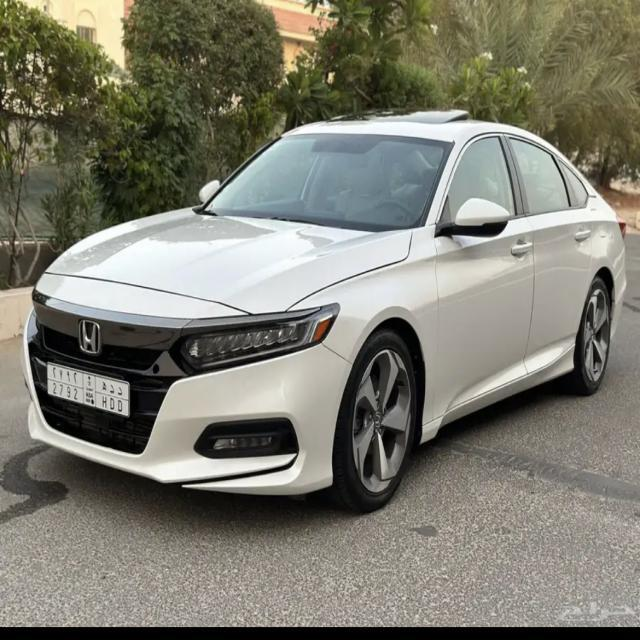license_plate: (45, 359, 132, 422)
